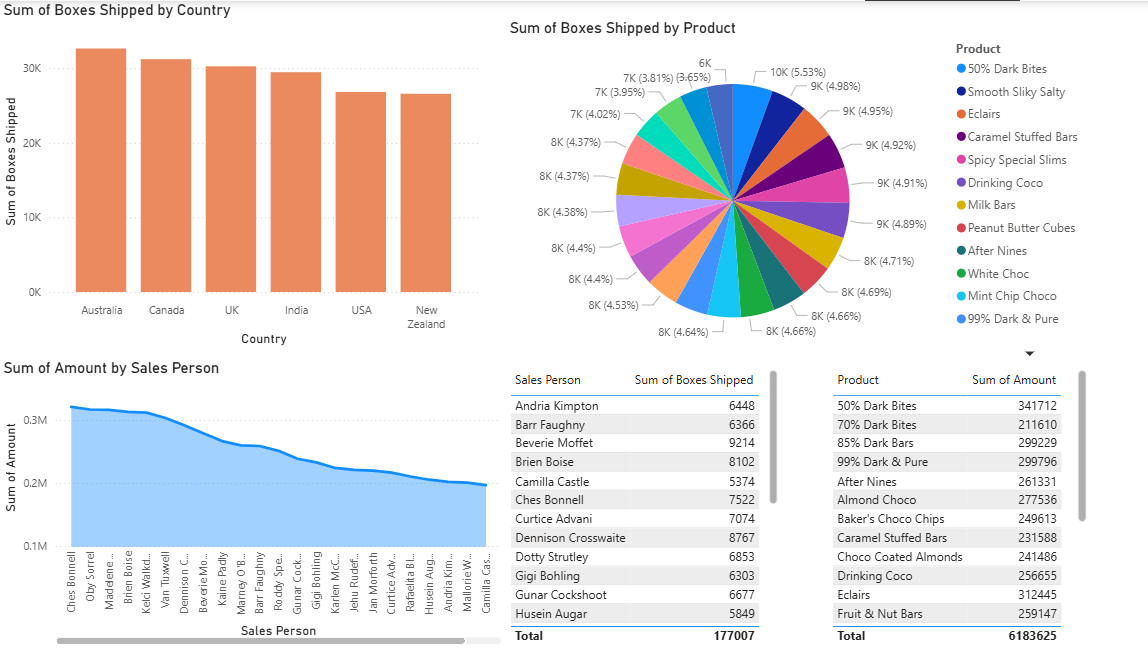

The page's visual inventory and layout, read from the dashboard file:
{"tool":"powerbi","page":{"name":"Page 1","canvas":[1280,720],"ordinal":0},"visuals":[{"type":"columnChart","fields":{"Category":["data.Country"],"Y":["Sum(data.Boxes Shipped)"]},"box":[0,0,537.5,387.5],"z":0},{"type":"pieChart","fields":{"Category":["data.Product"],"Y":["Sum(data.Boxes Shipped)"]},"box":[562.5,20,667.5,385],"z":1},{"type":"areaChart","fields":{"Y":["Sum(data.Amount)"],"Category":["data.Sales Person"]},"box":[0,397.5,562.5,322.5],"z":2},{"type":"tableEx","fields":{"Values":["data.Product","Sum(data.Amount)"]},"box":[965,405,292.5,315],"z":3},{"type":"tableEx","fields":{"Values":["data.Sales Person","Sum(data.Boxes Shipped)"]},"box":[617.5,402.5,307.5,315],"z":4}]}

Visuals, with their boxes in screenshot pixels (x1, y1, x2, y2), scaled from the page's 1280x720 canvas onto the 1148x648 screenshot:
columnChart - data.Country x Sum(data.Boxes Shipped): [0, 0, 482, 349]
pieChart - data.Product x Sum(data.Boxes Shipped): [504, 18, 1103, 364]
areaChart - Sum(data.Amount) x data.Sales Person: [0, 358, 504, 647]
tableEx - data.Product x Sum(data.Amount): [865, 364, 1128, 647]
tableEx - data.Sales Person x Sum(data.Boxes Shipped): [554, 362, 830, 646]
